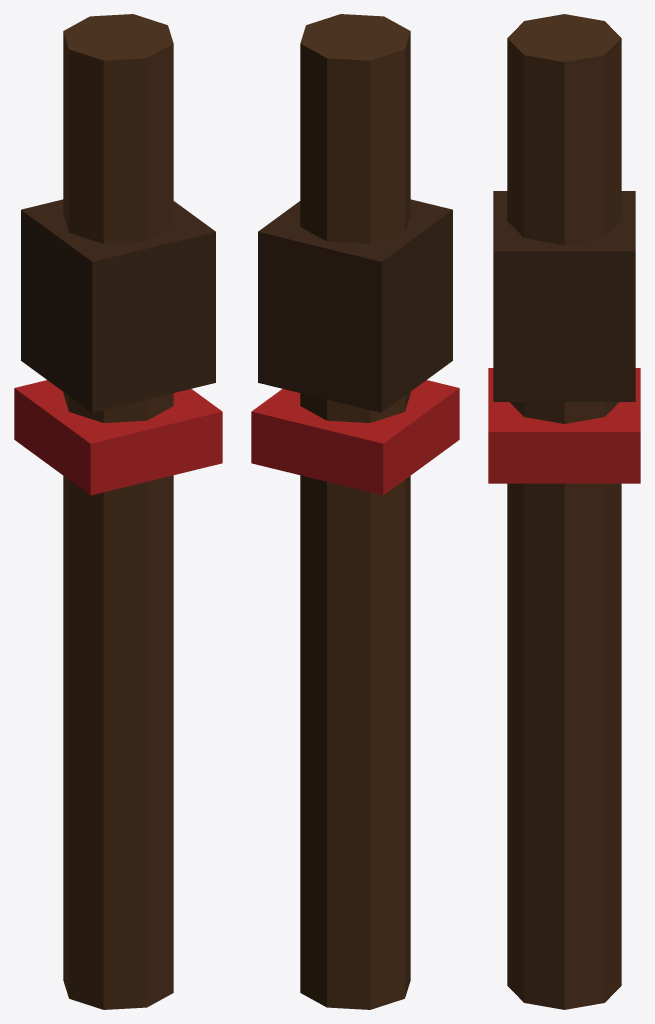
The model's file is shrinePole.glb.
3 renders of one model, left to right at view 1: azimuth 30°, elevation 25°; view 2: azimuth 150°, elevation 25°; view 3: azimuth 270°, elevation 25°, orthographic.
Visible parts, largest first — view 1: shrinePole-4a2e18, shrinePole-3a2414, shrinePole-b3201f; view 2: shrinePole-4a2e18, shrinePole-3a2414, shrinePole-b3201f; view 3: shrinePole-4a2e18, shrinePole-3a2414, shrinePole-b3201f.
Part boxes in pixels (bbox=[...]): shrinePole-4a2e18: bbox=[63, 14, 173, 1009]; shrinePole-3a2414: bbox=[21, 199, 215, 412]; shrinePole-b3201f: bbox=[14, 380, 222, 495]; shrinePole-4a2e18: bbox=[300, 14, 410, 1009]; shrinePole-3a2414: bbox=[258, 199, 452, 412]; shrinePole-b3201f: bbox=[251, 380, 459, 495]; shrinePole-4a2e18: bbox=[507, 14, 621, 1009]; shrinePole-3a2414: bbox=[493, 191, 635, 401]; shrinePole-b3201f: bbox=[488, 368, 640, 483].
Size of the model in its own units: 0.32 by 2.2 by 0.32.
